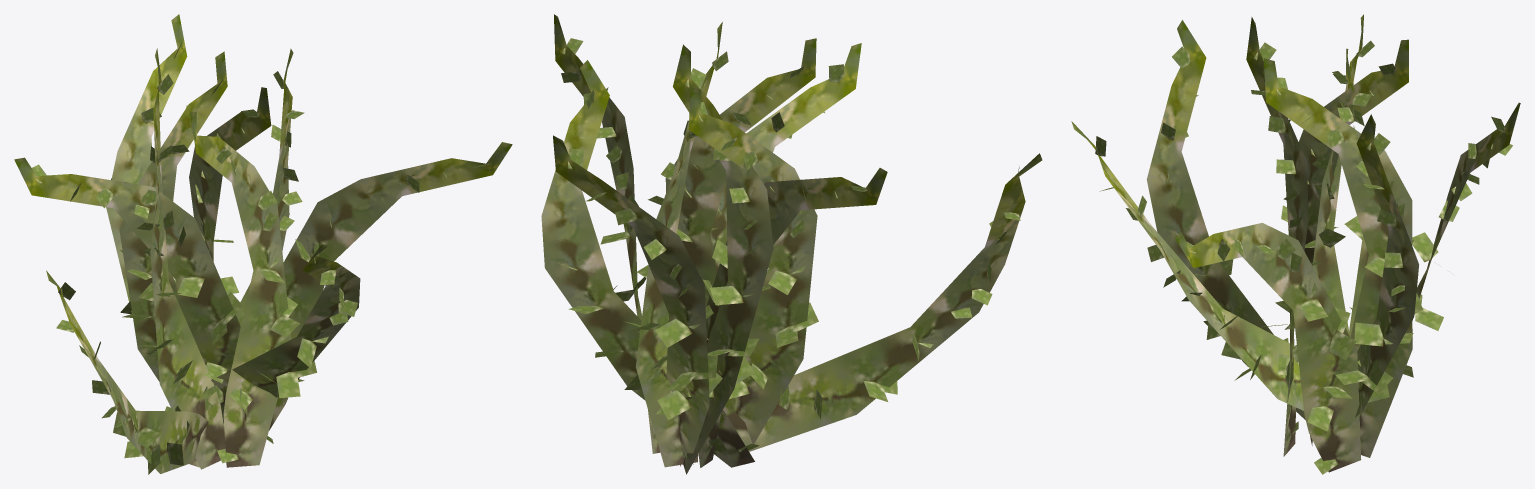
File: sm10_020_plant01a.fbx
The picture shows the model from 3 angles, left to right: view 1: azimuth 30°, elevation 25°; view 2: azimuth 150°, elevation 25°; view 3: azimuth 270°, elevation 25°; orthographic projection. The views are drawn at different scales.
Parts seen in each view (by area): view 1: LOD_1_Group_1_Sub_1__sm10_020_Plant01A_A_Mat__Env_RainLeafEf, LOD_1_Group_6_Sub_1__sm10_020_Plant01A_A_Mat__Env_RainLeafEf, LOD_1_Group_3_Sub_1__sm10_020_Plant01A_A_Mat__Env_RainLeafEf, LOD_1_Group_5_Sub_1__sm10_020_Plant01A_A_Mat__Env_RainLeafEf, LOD_1_Group_9_Sub_1__sm10_020_Plant01A_A_Mat__Env_RainLeafEf, LOD_1_Group_7_Sub_1__sm10_020_Plant01A_A_Mat__Env_RainLeafEf, LOD_1_Group_8_Sub_1__sm10_020_Plant01A_A_Mat__Env_RainLeafEf, LOD_1_Group_10_Sub_1__sm10_020_Plant01A_A_Mat__Env_RainLeafE, LOD_1_Group_2_Sub_1__sm10_020_Plant01A_A_Mat__Env_RainLeafEf, LOD_1_Group_4_Sub_1__sm10_020_Plant01A_A_Mat__Env_RainLeafEf; view 2: LOD_1_Group_7_Sub_1__sm10_020_Plant01A_A_Mat__Env_RainLeafEf, LOD_1_Group_5_Sub_1__sm10_020_Plant01A_A_Mat__Env_RainLeafEf, LOD_1_Group_4_Sub_1__sm10_020_Plant01A_A_Mat__Env_RainLeafEf, LOD_1_Group_10_Sub_1__sm10_020_Plant01A_A_Mat__Env_RainLeafE, LOD_1_Group_8_Sub_1__sm10_020_Plant01A_A_Mat__Env_RainLeafEf, LOD_1_Group_1_Sub_1__sm10_020_Plant01A_A_Mat__Env_RainLeafEf, LOD_1_Group_2_Sub_1__sm10_020_Plant01A_A_Mat__Env_RainLeafEf, LOD_1_Group_9_Sub_1__sm10_020_Plant01A_A_Mat__Env_RainLeafEf, LOD_1_Group_6_Sub_1__sm10_020_Plant01A_A_Mat__Env_RainLeafEf, LOD_1_Group_3_Sub_1__sm10_020_Plant01A_A_Mat__Env_RainLeafEf; view 3: LOD_1_Group_3_Sub_1__sm10_020_Plant01A_A_Mat__Env_RainLeafEf, LOD_1_Group_2_Sub_1__sm10_020_Plant01A_A_Mat__Env_RainLeafEf, LOD_1_Group_7_Sub_1__sm10_020_Plant01A_A_Mat__Env_RainLeafEf, LOD_1_Group_4_Sub_1__sm10_020_Plant01A_A_Mat__Env_RainLeafEf, LOD_1_Group_9_Sub_1__sm10_020_Plant01A_A_Mat__Env_RainLeafEf, LOD_1_Group_1_Sub_1__sm10_020_Plant01A_A_Mat__Env_RainLeafEf, LOD_1_Group_5_Sub_1__sm10_020_Plant01A_A_Mat__Env_RainLeafEf, LOD_1_Group_10_Sub_1__sm10_020_Plant01A_A_Mat__Env_RainLeafE, LOD_1_Group_6_Sub_1__sm10_020_Plant01A_A_Mat__Env_RainLeafEf, LOD_1_Group_8_Sub_1__sm10_020_Plant01A_A_Mat__Env_RainLeafEf.
Part boxes in pixels (x1,y1,x2,y2): LOD_1_Group_1_Sub_1__sm10_020_Plant01A_A_Mat__Env_RainLeafEf: [188, 112, 300, 467]; LOD_1_Group_6_Sub_1__sm10_020_Plant01A_A_Mat__Env_RainLeafEf: [14, 157, 243, 383]; LOD_1_Group_3_Sub_1__sm10_020_Plant01A_A_Mat__Env_RainLeafEf: [267, 142, 512, 443]; LOD_1_Group_5_Sub_1__sm10_020_Plant01A_A_Mat__Env_RainLeafEf: [137, 48, 225, 469]; LOD_1_Group_9_Sub_1__sm10_020_Plant01A_A_Mat__Env_RainLeafEf: [165, 242, 360, 423]; LOD_1_Group_7_Sub_1__sm10_020_Plant01A_A_Mat__Env_RainLeafEf: [46, 270, 214, 474]; LOD_1_Group_8_Sub_1__sm10_020_Plant01A_A_Mat__Env_RainLeafEf: [119, 51, 227, 381]; LOD_1_Group_10_Sub_1__sm10_020_Plant01A_A_Mat__Env_RainLeafE: [106, 14, 187, 314]; LOD_1_Group_2_Sub_1__sm10_020_Plant01A_A_Mat__Env_RainLeafEf: [189, 87, 271, 294]; LOD_1_Group_4_Sub_1__sm10_020_Plant01A_A_Mat__Env_RainLeafEf: [189, 48, 304, 467]; LOD_1_Group_7_Sub_1__sm10_020_Plant01A_A_Mat__Env_RainLeafEf: [727, 153, 1042, 451]; LOD_1_Group_5_Sub_1__sm10_020_Plant01A_A_Mat__Env_RainLeafEf: [688, 87, 818, 443]; LOD_1_Group_4_Sub_1__sm10_020_Plant01A_A_Mat__Env_RainLeafEf: [541, 60, 759, 467]; LOD_1_Group_10_Sub_1__sm10_020_Plant01A_A_Mat__Env_RainLeafE: [553, 135, 722, 458]; LOD_1_Group_8_Sub_1__sm10_020_Plant01A_A_Mat__Env_RainLeafEf: [673, 44, 773, 474]; LOD_1_Group_1_Sub_1__sm10_020_Plant01A_A_Mat__Env_RainLeafEf: [665, 38, 816, 306]; LOD_1_Group_2_Sub_1__sm10_020_Plant01A_A_Mat__Env_RainLeafEf: [623, 22, 728, 467]; LOD_1_Group_9_Sub_1__sm10_020_Plant01A_A_Mat__Env_RainLeafEf: [698, 43, 861, 467]; LOD_1_Group_6_Sub_1__sm10_020_Plant01A_A_Mat__Env_RainLeafEf: [680, 168, 887, 466]; LOD_1_Group_3_Sub_1__sm10_020_Plant01A_A_Mat__Env_RainLeafEf: [554, 14, 660, 453]; LOD_1_Group_3_Sub_1__sm10_020_Plant01A_A_Mat__Env_RainLeafEf: [1174, 223, 1361, 474]; LOD_1_Group_2_Sub_1__sm10_020_Plant01A_A_Mat__Env_RainLeafEf: [1263, 58, 1422, 457]; LOD_1_Group_7_Sub_1__sm10_020_Plant01A_A_Mat__Env_RainLeafEf: [1146, 20, 1305, 419]; LOD_1_Group_4_Sub_1__sm10_020_Plant01A_A_Mat__Env_RainLeafEf: [1335, 114, 1418, 417]; LOD_1_Group_9_Sub_1__sm10_020_Plant01A_A_Mat__Env_RainLeafEf: [1071, 121, 1303, 410]; LOD_1_Group_1_Sub_1__sm10_020_Plant01A_A_Mat__Env_RainLeafEf: [1246, 17, 1322, 456]; LOD_1_Group_5_Sub_1__sm10_020_Plant01A_A_Mat__Env_RainLeafEf: [1275, 39, 1408, 445]; LOD_1_Group_10_Sub_1__sm10_020_Plant01A_A_Mat__Env_RainLeafE: [1359, 102, 1520, 419]; LOD_1_Group_6_Sub_1__sm10_020_Plant01A_A_Mat__Env_RainLeafEf: [1305, 14, 1374, 333]; LOD_1_Group_8_Sub_1__sm10_020_Plant01A_A_Mat__Env_RainLeafEf: [1332, 48, 1371, 336].
Bounding box in the file's own units: 2.47 × 2.04 × 2.01.
